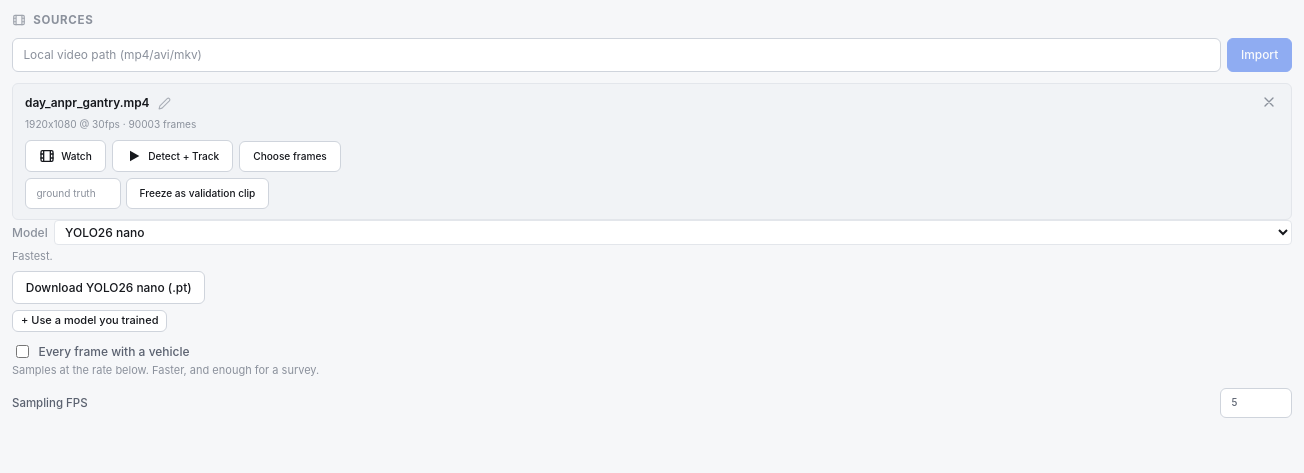
Test case: Keeping every frame with a vehicle in it › says plainly when a run will not fit
Hover over the button "Detect + Track": (172, 156) [112,140,233,172]
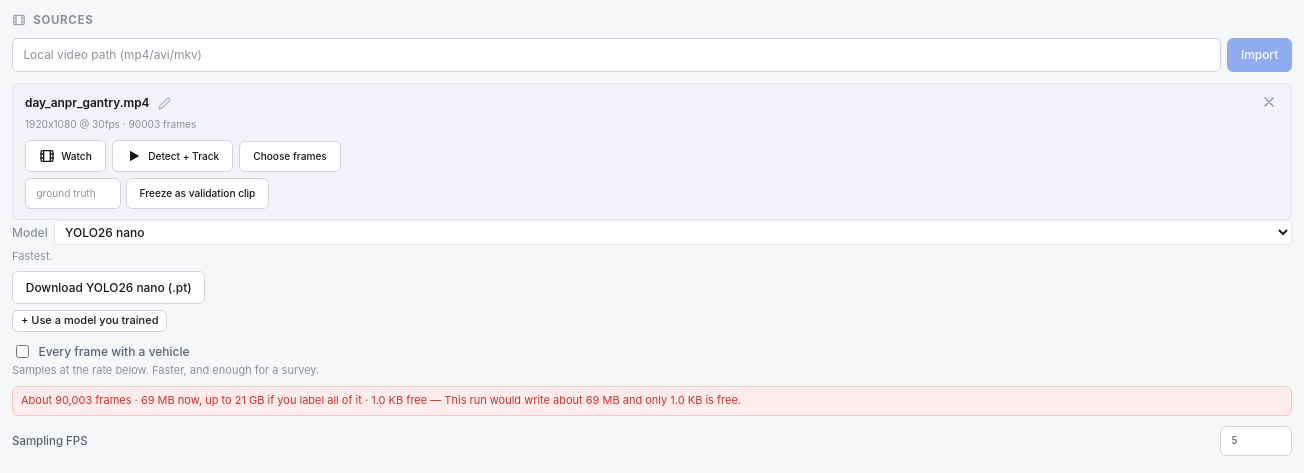
Expected: the text with test id "run-estimate" shows "only 1.0 KB is free", [427,393,741,407]
